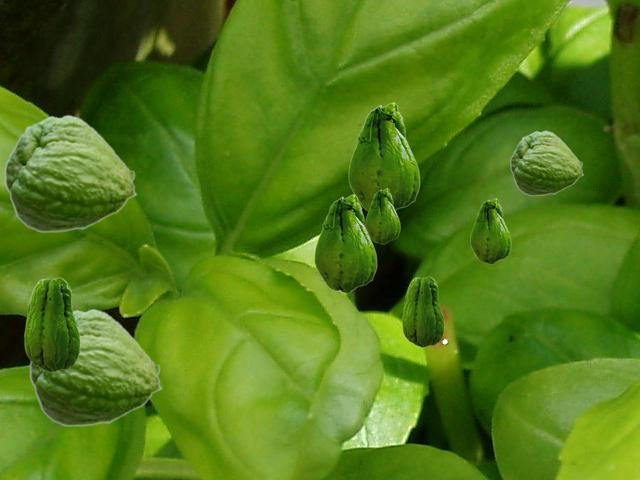sayote: (29, 308, 162, 426), (4, 114, 137, 232), (348, 102, 419, 211), (314, 194, 376, 292), (24, 277, 79, 371), (510, 130, 583, 195), (402, 276, 443, 346), (470, 198, 510, 263), (365, 188, 399, 243)
